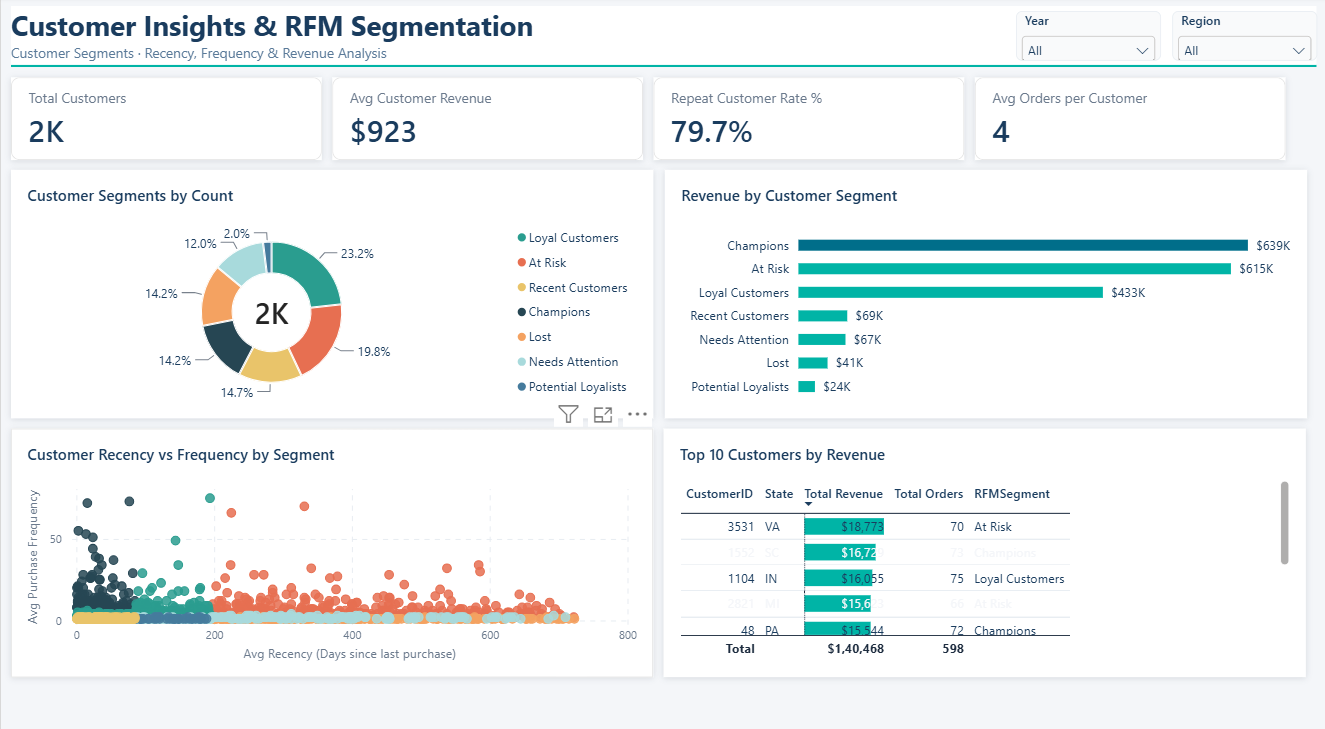

Layout of this report page (visuals, bound fields, positions):
{"tool":"powerbi","page":{"name":"Customer Insights & RFM","canvas":[1280,720],"ordinal":2},"visuals":[{"type":"textbox","box":[10,10,1260,58],"z":0},{"type":"shape","box":[9.7,61.5,1260,12],"z":1000},{"type":"slicer","fields":{"Values":["DimDate.Year"]},"box":[980,14,140,48],"z":2000},{"type":"slicer","fields":{"Values":["DimCustomer.Region"]},"box":[1130,14,140,48],"z":3000},{"type":"cardVisual","fields":{"Data":["_Measures.Avg Customer Revenue"]},"box":[320,78,300,80],"z":4000},{"type":"cardVisual","fields":{"Data":["_Measures.Total Customers"]},"box":[10,78,300,80],"z":5000},{"type":"cardVisual","fields":{"Data":["_Measures.Repeat Customer Rate %"]},"box":[630,78,300,80],"z":6000},{"type":"cardVisual","fields":{"Data":["_Measures.Avg Orders per Customer"]},"box":[940,78,300,80],"z":7000},{"type":"donutChart","title":"Customer Segments by Count","fields":{"Category":["DimCustomer.RFMSegment"],"Y":["_Measures.Total Customers"]},"box":[10,168,620,240],"z":8000},{"type":"clusteredBarChart","title":"Revenue by Customer Segment","fields":{"Category":["DimCustomer.RFMSegment"],"Y":["_Measures.Total Revenue"]},"box":[640.1,168,620,240],"z":9000},{"type":"scatterChart","title":"Customer Recency vs Frequency by Segment","fields":{"Category":["DimCustomer.CustomerID"],"Series":["DimCustomer.RFMSegment"],"X":["Sum(DimCustomer.RecencyDays)"],"Y":["Sum(DimCustomer.Frequency)"]},"box":[10,418,620,240],"z":10000},{"type":"tableEx","title":"Top 10 Customers by Revenue","fields":{"Values":["FactSales.CustomerID","DimCustomer.State","_Measures.Total Revenue","_Measures.Total Orders","DimCustomer.RFMSegment"]},"box":[640,418,620,240],"z":11000}]}

Visuals, with their boxes in screenshot pixels (x1, y1, x2, y2), scaled from the page's 1280x720 canvas onto the 1325x729 screenshot:
textbox: [10, 10, 1315, 69]
shape: [10, 62, 1314, 74]
slicer - DimDate.Year: [1014, 14, 1159, 63]
slicer - DimCustomer.Region: [1170, 14, 1315, 63]
cardVisual - _Measures.Avg Customer Revenue: [331, 79, 642, 160]
cardVisual - _Measures.Total Customers: [10, 79, 321, 160]
cardVisual - _Measures.Repeat Customer Rate %: [652, 79, 963, 160]
cardVisual - _Measures.Avg Orders per Customer: [973, 79, 1284, 160]
"Customer Segments by Count" donutChart: [10, 170, 652, 413]
"Revenue by Customer Segment" clusteredBarChart: [663, 170, 1304, 413]
"Customer Recency vs Frequency by Segment" scatterChart: [10, 423, 652, 666]
"Top 10 Customers by Revenue" tableEx: [662, 423, 1304, 666]
